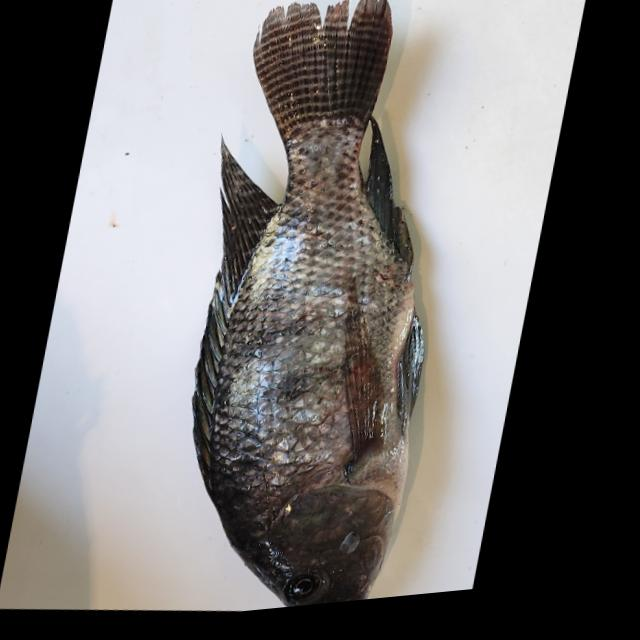Tilapia: (124, 0, 501, 623)
